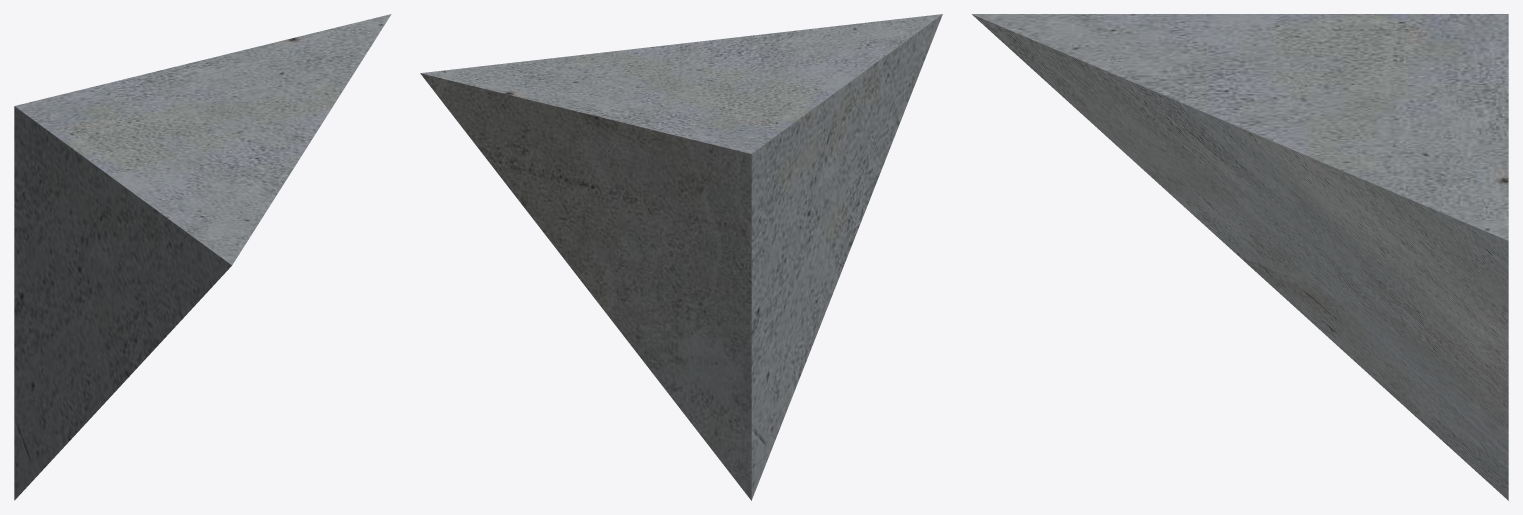
The model's file is module_A2.fbx.
The picture shows the model from 3 angles, left to right: view 1: azimuth 30°, elevation 25°; view 2: azimuth 150°, elevation 25°; view 3: azimuth 270°, elevation 25°; orthographic projection. The views are drawn at different scales.
Visible parts, largest first — view 1: modules; view 2: modules; view 3: modules.
Boxes of the visible parts, x1=… form: modules: x1=14, y1=14, x2=391, y2=500; modules: x1=420, y1=14, x2=942, y2=500; modules: x1=972, y1=14, x2=1508, y2=500.
Size of the model in its own units: 250 by 250 by 250.
Materials: 1 (1 with a texture image).
